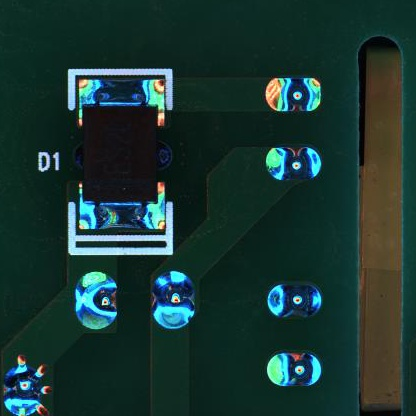spot: (5, 354, 51, 416), (75, 271, 119, 332), (151, 271, 196, 330), (265, 281, 321, 319), (264, 146, 321, 181), (264, 78, 321, 112), (267, 352, 320, 386)
